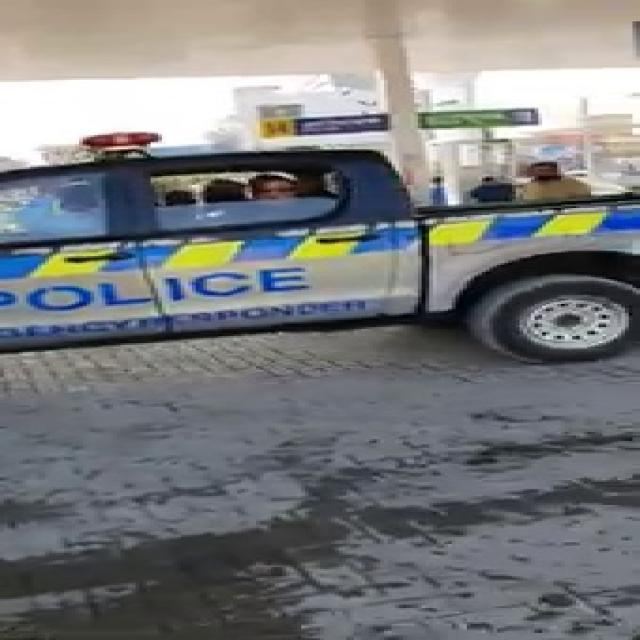police: (0, 154, 640, 352)
